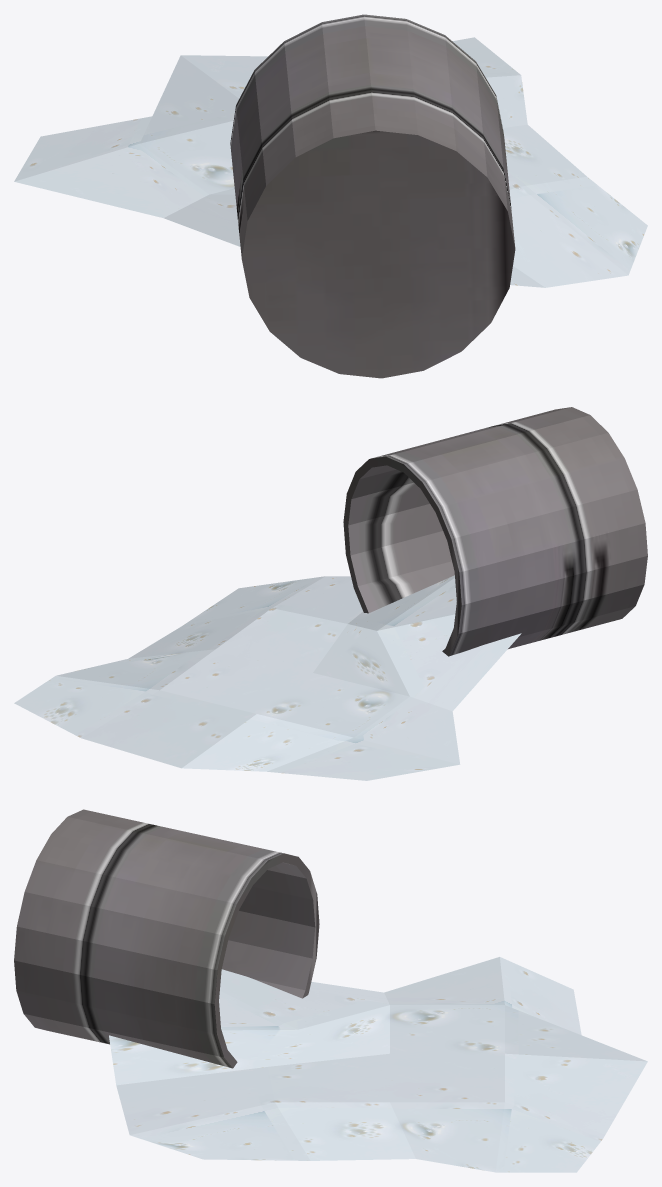
The model's file is bucket.fbx.
3 renders of one model, top to bottom at view 1: azimuth 30°, elevation 25°; view 2: azimuth 150°, elevation 25°; view 3: azimuth 270°, elevation 25°, orthographic. The views are drawn at different scales.
Visible parts, largest first — view 1: Cylinder.001; view 2: Cylinder.001; view 3: Cylinder.001.
Part boxes in pixels (left/top/right/bottom): Cylinder.001: left=14, top=14, right=647, bottom=378; Cylinder.001: left=14, top=407, right=647, bottom=780; Cylinder.001: left=14, top=809, right=647, bottom=1172.
Bounding box in the file's own units: 212 × 98.6 × 276.
